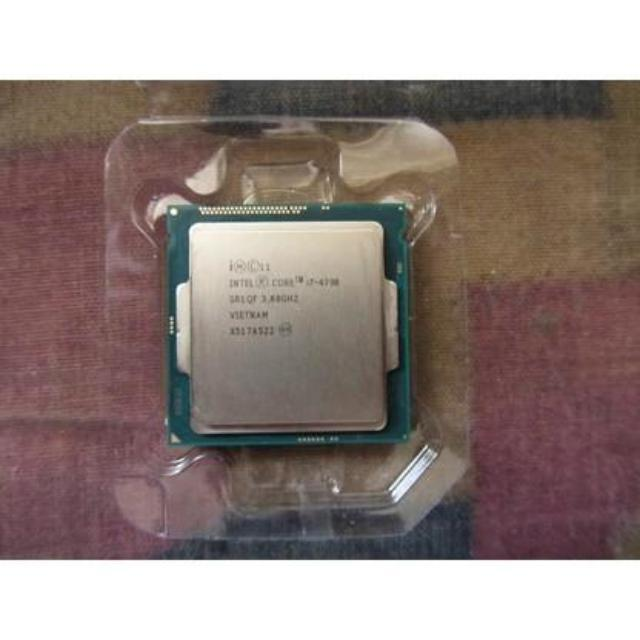CPU: (172, 210, 398, 436)
